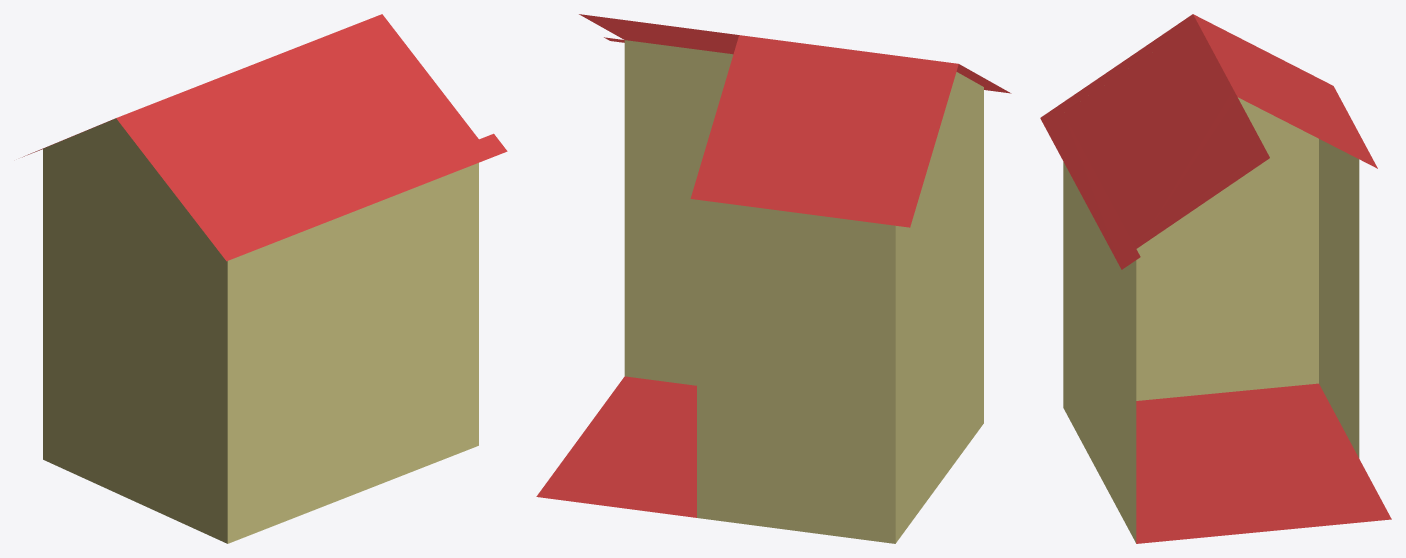
3 renders of one model, left to right at view 1: azimuth 30°, elevation 25°; view 2: azimuth 150°, elevation 25°; view 3: azimuth 270°, elevation 25°, orthographic. The views are drawn at different scales.
Bounding box in the file's own units: 10.94 × 9.03 × 10.56.
